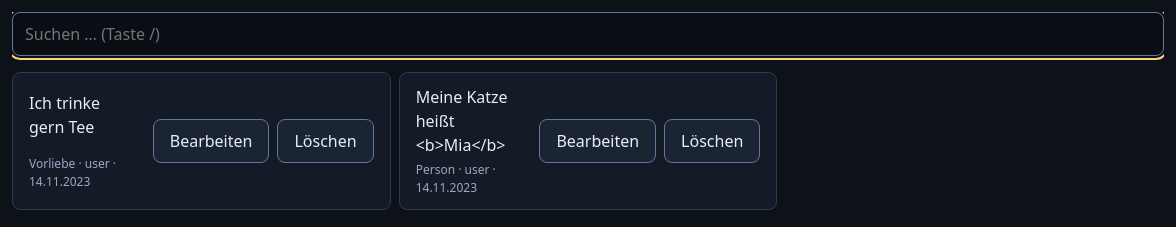
Gedächtnis › zeigt Einträge als reinen Text und filtert beim Suchen
Expected: the text "Ich trinke gern Tee" is shown, [29,92,100,138]
Expected: the text "Meine Katze heißt <b>Mia</b>" is shown, [416,85,524,157]
Type "tee" into the search field named "Gedächtnis durchsuchen".
click(588, 34); type("tee")  # box [12,12,1164,56]
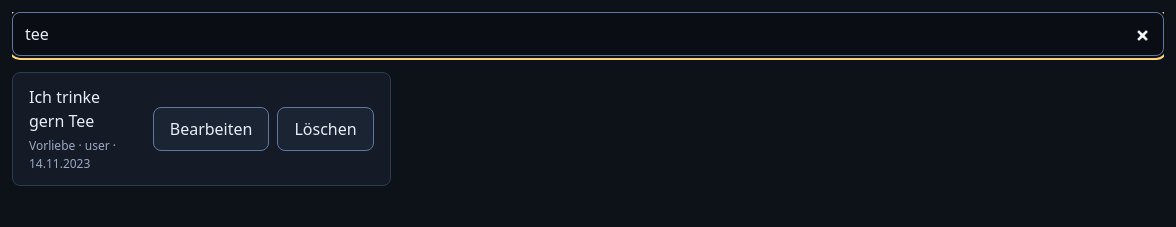
Expected: the text "Ich trinke gern Tee" is shown, [29,86,100,132]
Result: the text "Katze" is gone
